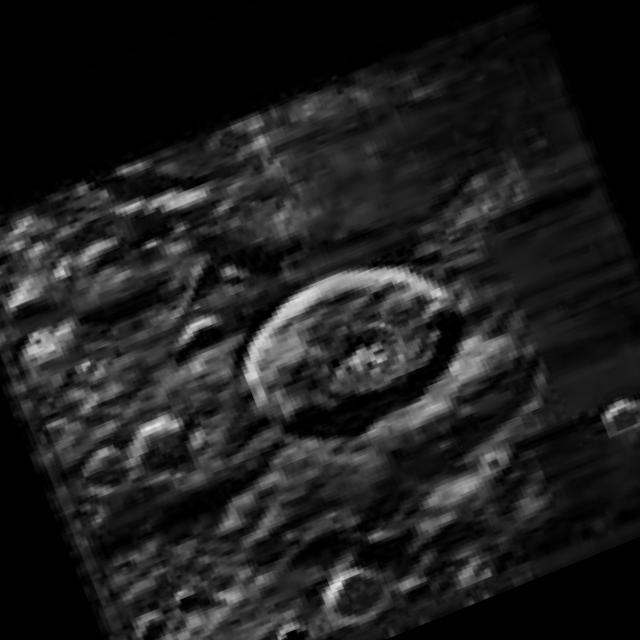crater: (207, 230, 492, 470), (316, 562, 394, 630), (599, 398, 640, 437), (274, 622, 315, 640)
